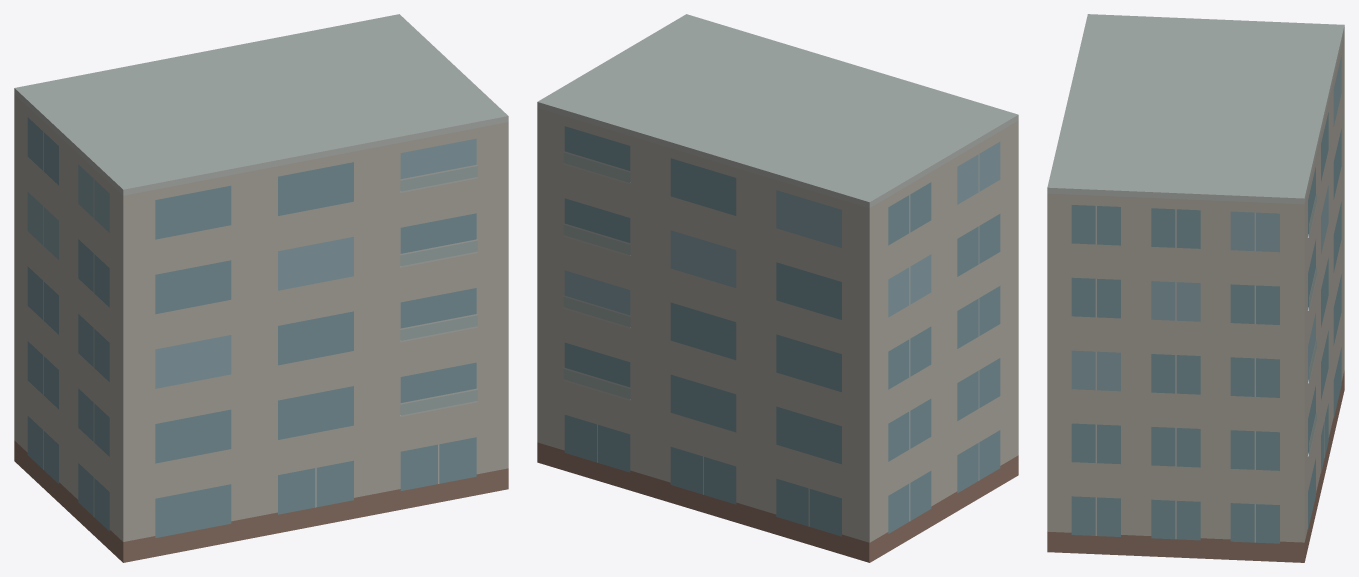
File: survey-upis-32629962.glb
3 views of the same model, side by side, from view 1: azimuth 30°, elevation 25°; view 2: azimuth 150°, elevation 25°; view 3: azimuth 270°, elevation 25° (orthographic). The views are drawn at different scales.
Parts seen in each view (by area): view 1: survey-upis-32629962.tmp; view 2: survey-upis-32629962.tmp; view 3: survey-upis-32629962.tmp.
Part boxes in pixels (x1,y1,x2,y2): survey-upis-32629962.tmp: (14, 14, 508, 562); survey-upis-32629962.tmp: (537, 14, 1018, 562); survey-upis-32629962.tmp: (1047, 14, 1344, 562).
Size of the model in its own units: 16.4 by 15.1 by 11.18.
